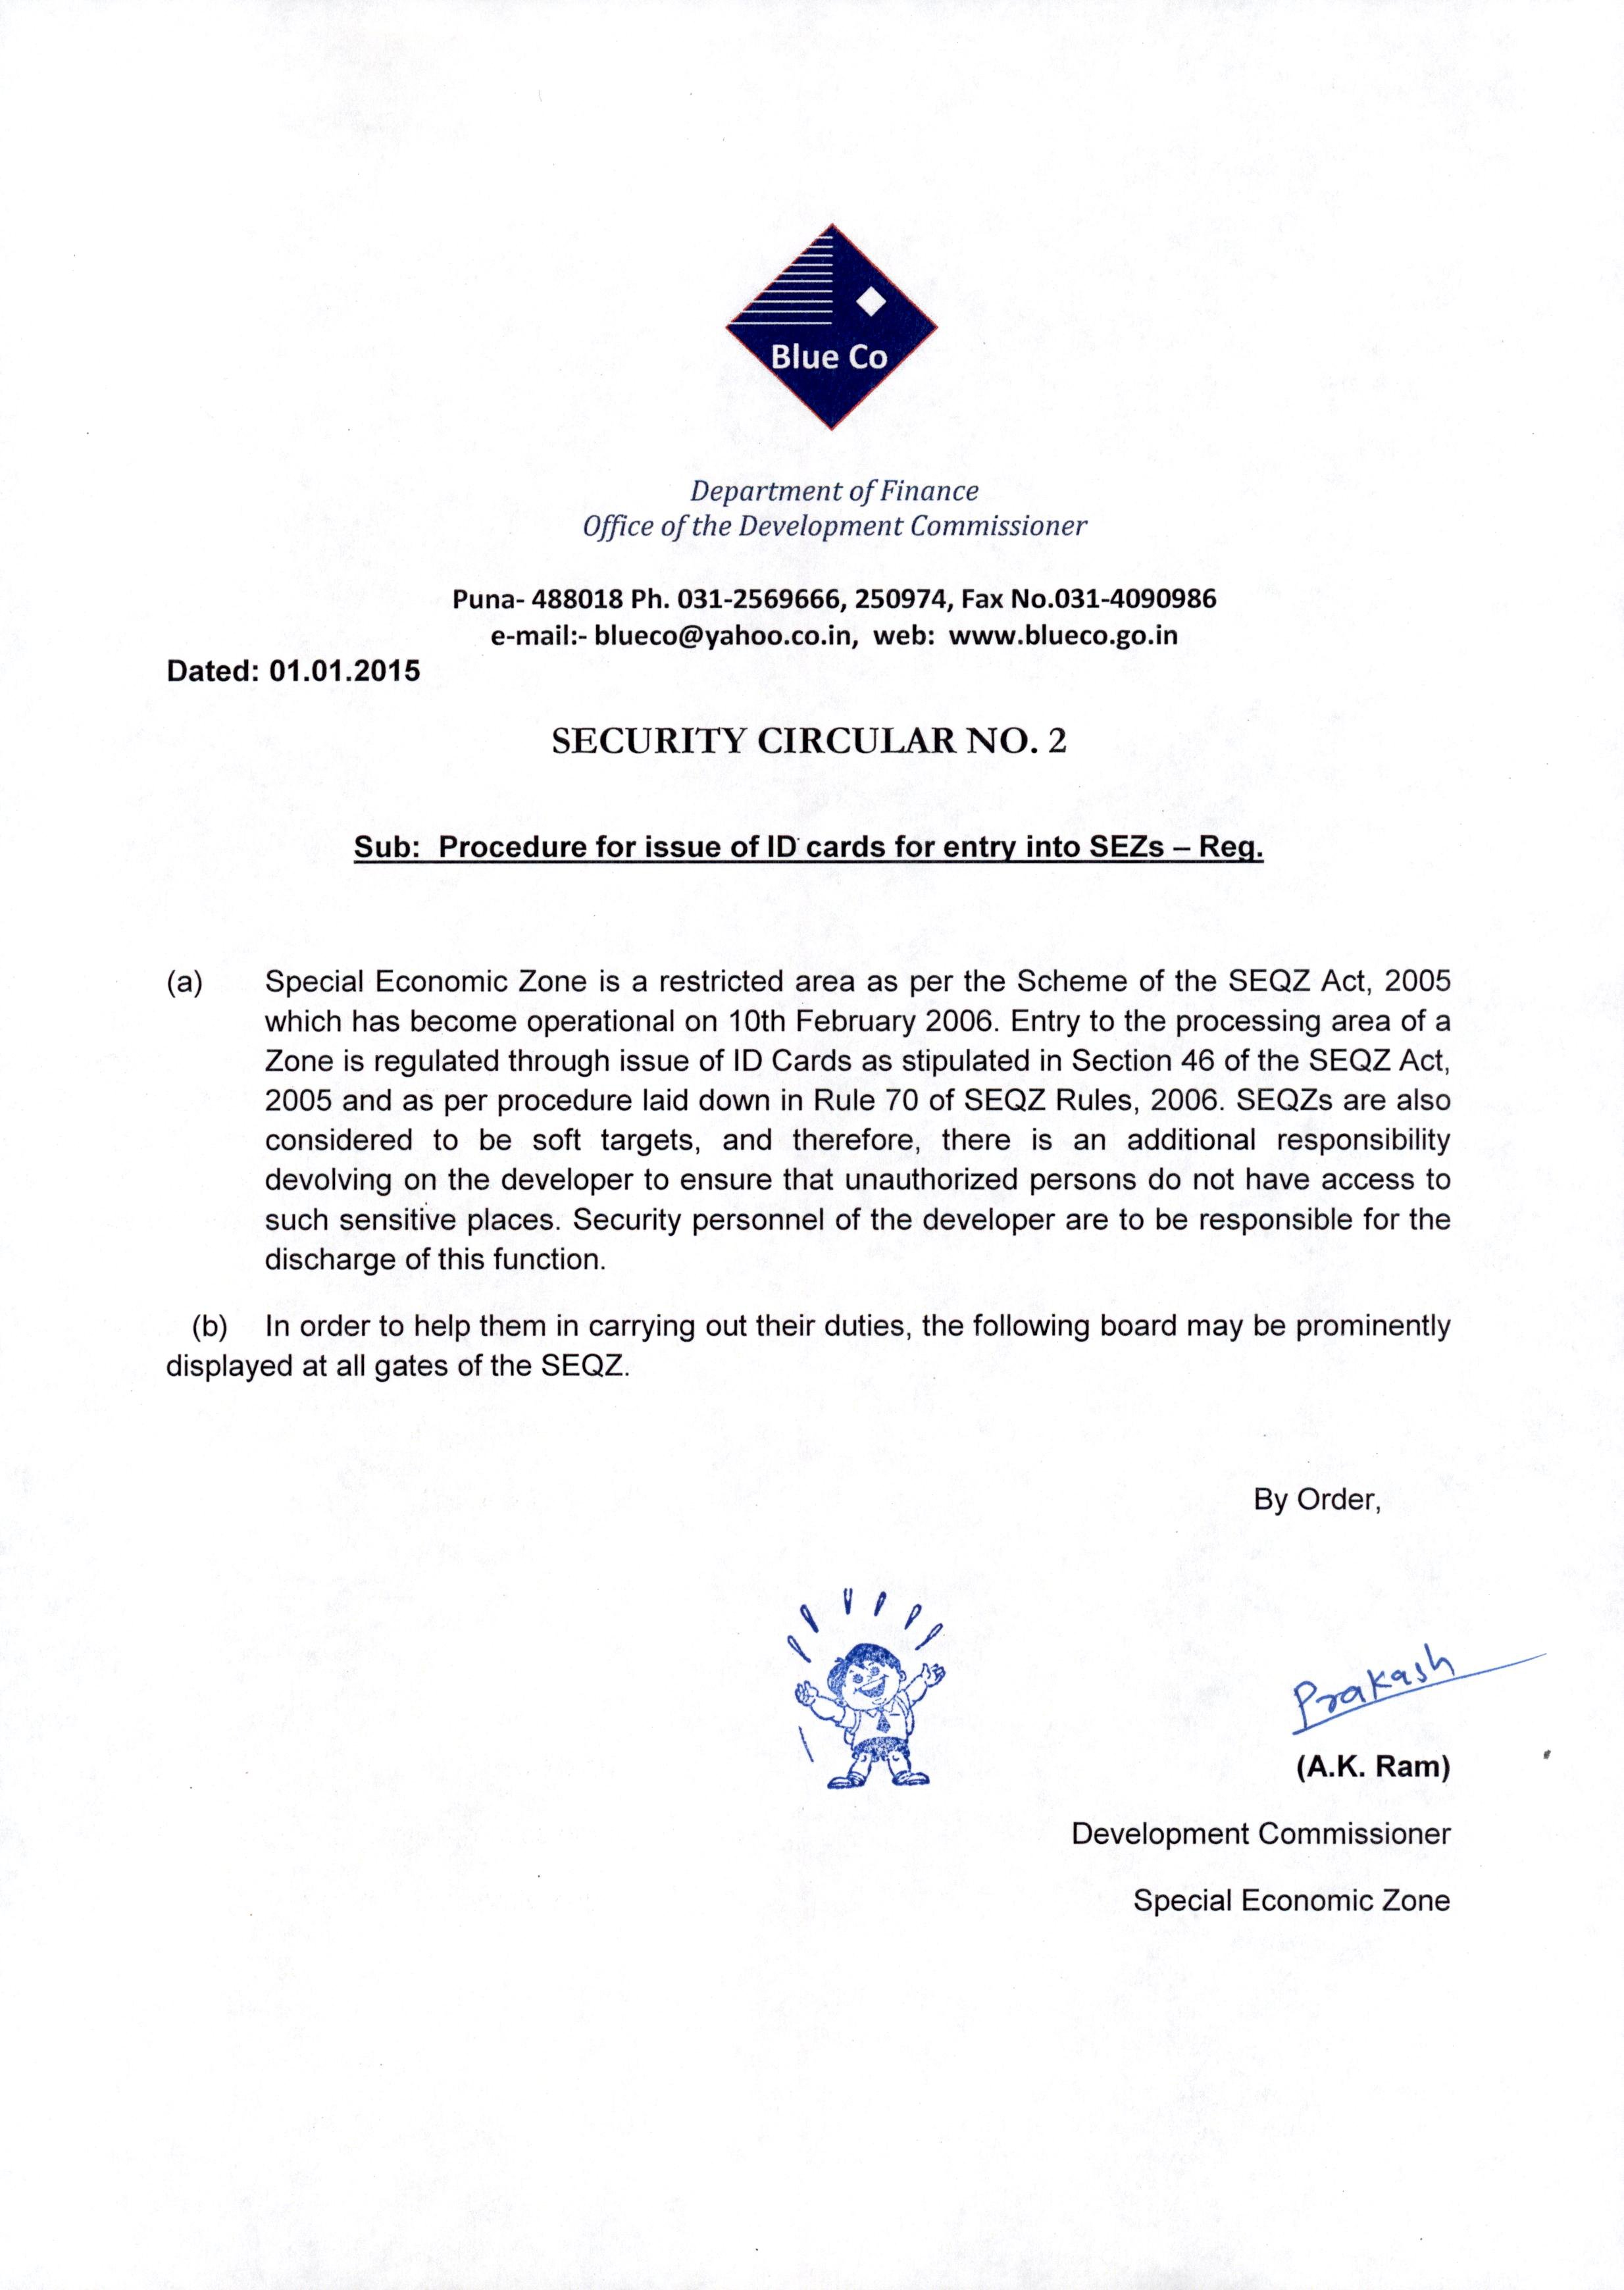Signature: (1281, 1629, 1550, 1740)
